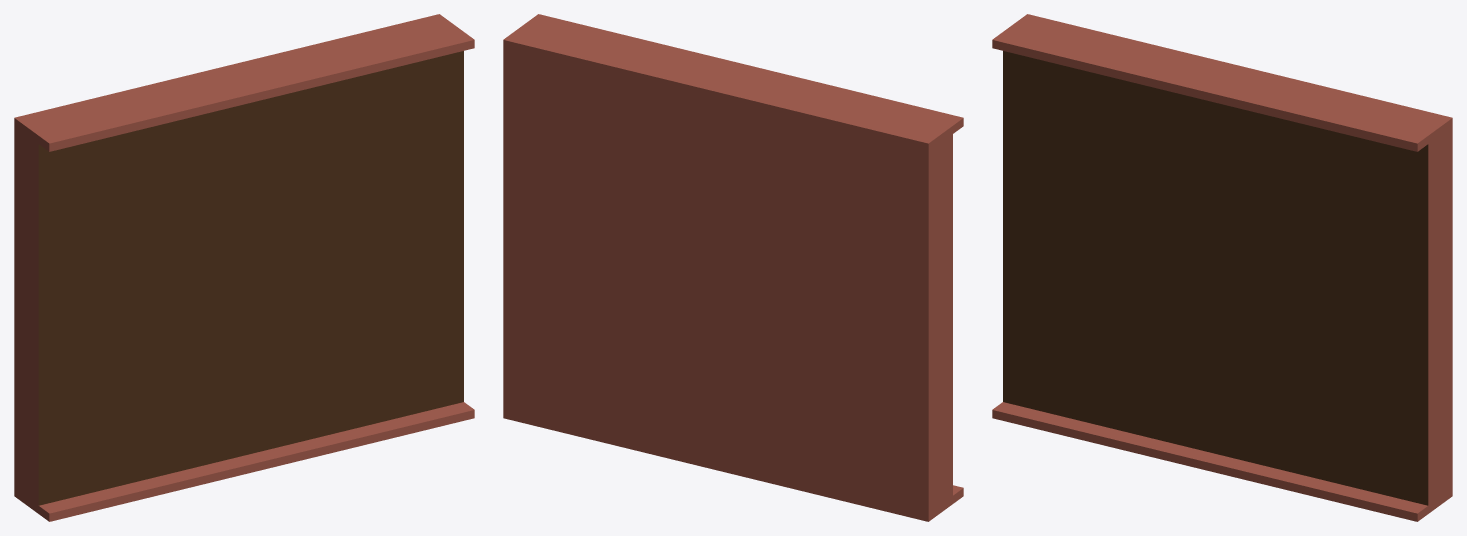
File: ramp_flat.glb
3 renders of one model, left to right at view 1: azimuth 30°, elevation 25°; view 2: azimuth 150°, elevation 25°; view 3: azimuth 330°, elevation 25°, orthographic.
Visible parts, largest first — view 1: bridge_04_ramp_flat; view 2: bridge_04_ramp_flat; view 3: bridge_04_ramp_flat.
Part boxes in pixels (<box>): bridge_04_ramp_flat: <box>14,14,474,521</box>; bridge_04_ramp_flat: <box>503,14,963,521</box>; bridge_04_ramp_flat: <box>992,14,1452,521</box>.
Bounding box in the file's own units: 16 × 13.6 × 2.3.
